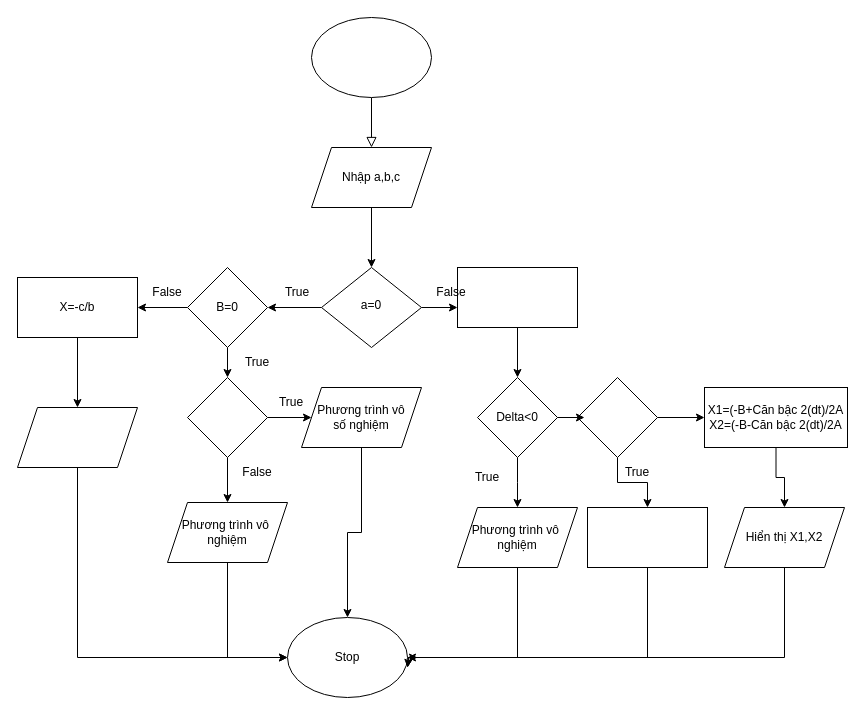
The diagram is 865 pixels wide and 715 high, and some of its shapes have lost their labels. Each missing label, with the centre of its shape:
"C=0" goes at pixel 227 417.
"Delta=0" goes at pixel 617 417.
"Delta=B*B-4AC" goes at pixel 517 297.
"Hiện thị x" goes at pixel 77 437.
"Start" goes at pixel 371 57.
"X=-B/2A" goes at pixel 647 537.
